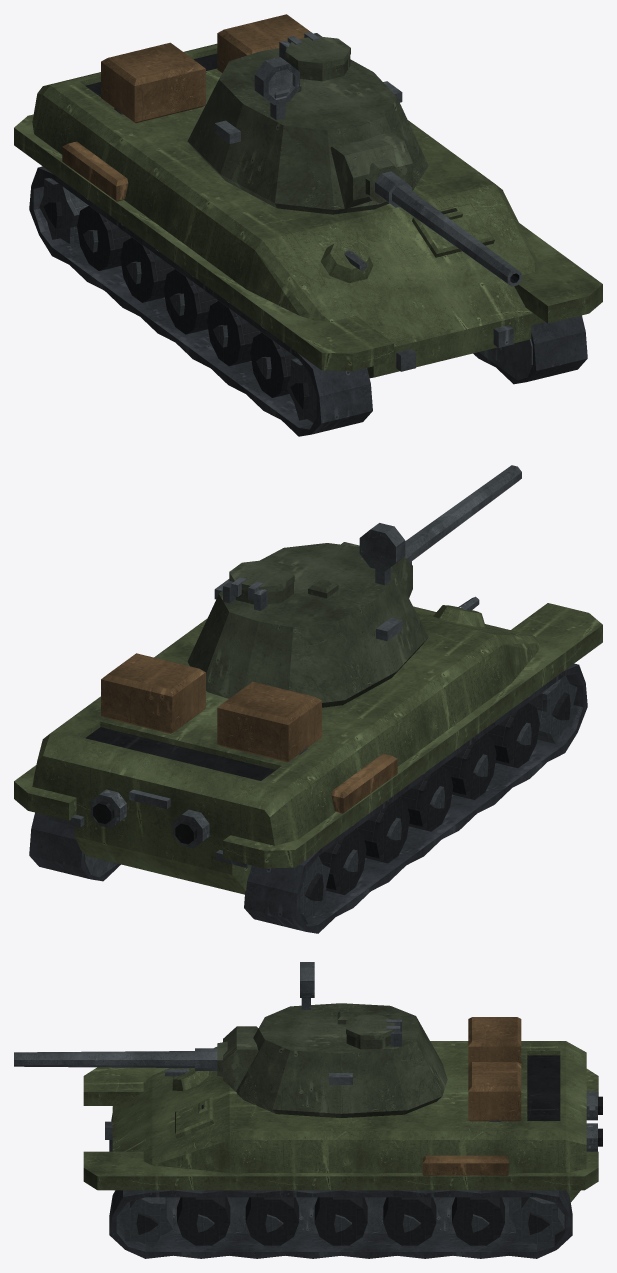
The model's file is near_mbt.glb.
3 renders of one model, top to bottom at view 1: azimuth 30°, elevation 25°; view 2: azimuth 150°, elevation 25°; view 3: azimuth 270°, elevation 25°, orthographic. The views are drawn at different scales.
Parts seen in each view (by area): view 1: tank-hull, turret-shell, stowage-mesh, gun-mesh, wheel-r3-mesh, wheel-r5-mesh, wheel-r4-mesh, wheel-r2-mesh, wheel-r1-mesh, sprocket-r-mesh, hatch-mesh, idler-r-mesh; view 2: tank-hull, turret-shell, stowage-mesh, gun-mesh, wheel-r3-mesh, wheel-r2-mesh, wheel-r1-mesh, wheel-r4-mesh, wheel-r5-mesh, idler-r-mesh, hatch-mesh, sprocket-r-mesh; view 3: tank-hull, turret-shell, stowage-mesh, gun-mesh, wheel-l2-mesh, wheel-l3-mesh, wheel-l4-mesh, wheel-l1-mesh, wheel-l5-mesh, sprocket-l-mesh, idler-l-mesh, hatch-mesh.
Part boxes in pixels (bbox=[...]): tank-hull: bbox=[14, 43, 602, 436]; turret-shell: bbox=[187, 33, 428, 214]; stowage-mesh: bbox=[62, 14, 310, 201]; gun-mesh: bbox=[330, 132, 521, 286]; wheel-r3-mesh: bbox=[163, 269, 218, 334]; wheel-r5-mesh: bbox=[77, 206, 131, 270]; wheel-r4-mesh: bbox=[120, 237, 174, 302]; wheel-r2-mesh: bbox=[207, 301, 261, 366]; wheel-r1-mesh: bbox=[250, 332, 296, 397]; sprocket-r-mesh: bbox=[39, 178, 88, 243]; hatch-mesh: bbox=[285, 32, 350, 69]; idler-r-mesh: bbox=[286, 358, 316, 422]; tank-hull: bbox=[14, 596, 602, 933]; turret-shell: bbox=[187, 523, 428, 707]; stowage-mesh: bbox=[101, 653, 397, 813]; gun-mesh: bbox=[341, 465, 521, 597]; wheel-r3-mesh: bbox=[398, 766, 453, 831]; wheel-r2-mesh: bbox=[441, 734, 496, 799]; wheel-r1-mesh: bbox=[485, 703, 539, 768]; wheel-r4-mesh: bbox=[355, 798, 409, 863]; wheel-r5-mesh: bbox=[319, 829, 366, 894]; idler-r-mesh: bbox=[528, 675, 577, 743]; hatch-mesh: bbox=[229, 560, 294, 600]; sprocket-r-mesh: bbox=[300, 856, 330, 924]; tank-hull: bbox=[83, 1041, 602, 1258]; turret-shell: bbox=[236, 962, 447, 1117]; stowage-mesh: bbox=[422, 1017, 521, 1175]; gun-mesh: bbox=[14, 1026, 258, 1091]; wheel-l2-mesh: bbox=[245, 1197, 298, 1245]; wheel-l3-mesh: bbox=[314, 1197, 367, 1245]; wheel-l4-mesh: bbox=[383, 1197, 436, 1245]; wheel-l1-mesh: bbox=[177, 1197, 230, 1245]; wheel-l5-mesh: bbox=[452, 1197, 504, 1245]; sprocket-l-mesh: bbox=[509, 1197, 564, 1247]; idler-l-mesh: bbox=[117, 1197, 172, 1247]; hatch-mesh: bbox=[346, 1014, 400, 1039].
Size of the model in its own units: 3 by 2.85 by 6.86.
2 materials, 2 textured.
